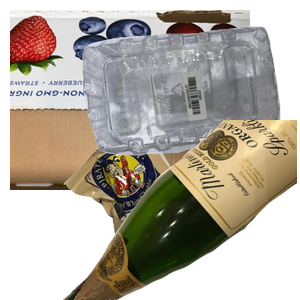cardboard: (10, 10, 250, 190)
glass: (60, 120, 300, 300)
plastic: (80, 24, 300, 172)
trash: (61, 127, 260, 300)
